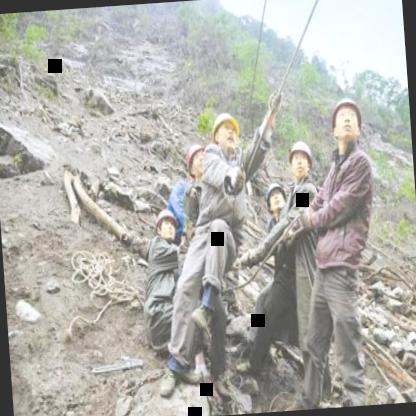helmet: (327, 86, 367, 155), (204, 106, 244, 156), (286, 135, 316, 183), (182, 136, 210, 180), (262, 178, 292, 218), (151, 208, 181, 244)
